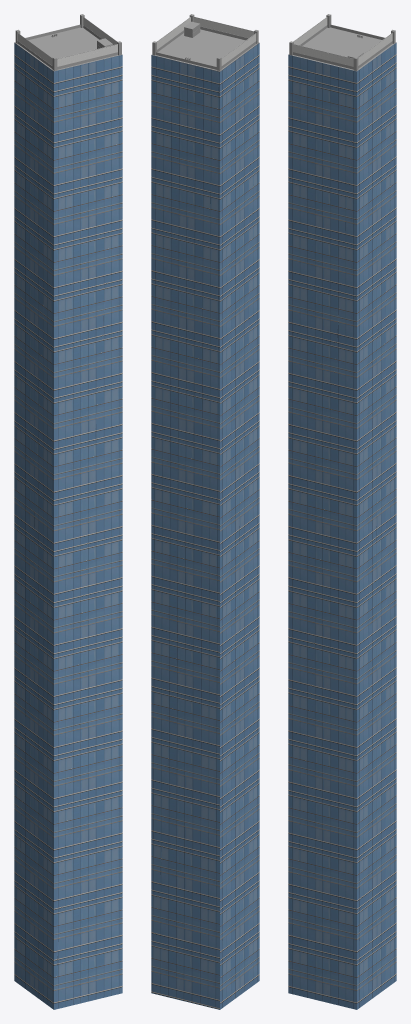
The model's file is building 1.fbx.
The picture shows the model from 3 angles, left to right: view 1: azimuth 30°, elevation 25°; view 2: azimuth 150°, elevation 25°; view 3: azimuth 330°, elevation 25°; orthographic projection.
Parts seen in each view (by area): view 1: Building_1; view 2: Building_1; view 3: Building_1.
Part boxes in pixels (left/top/right/bottom): Building_1: left=14, top=14, right=122, bottom=1009; Building_1: left=151, top=14, right=259, bottom=1009; Building_1: left=288, top=14, right=396, bottom=1009.
Size of the model in its own units: 22.85 by 302 by 22.85.
Materials: 10 (2 with a texture image).
